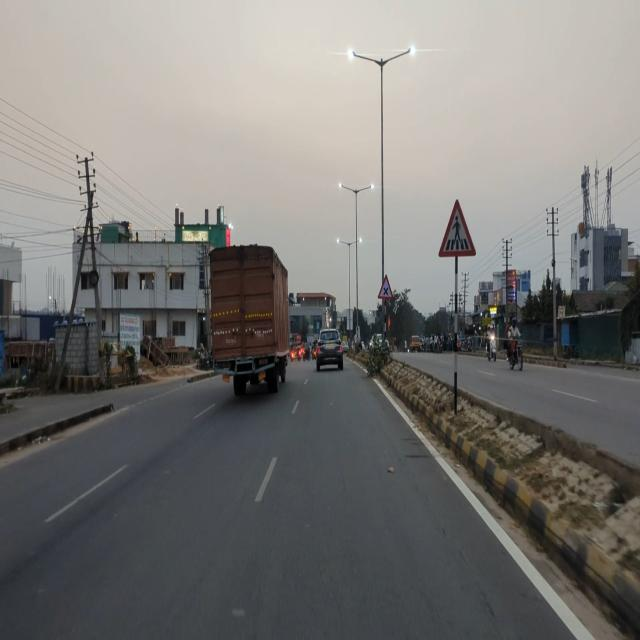bien_cam: (438, 198, 476, 256), (376, 272, 394, 301)
